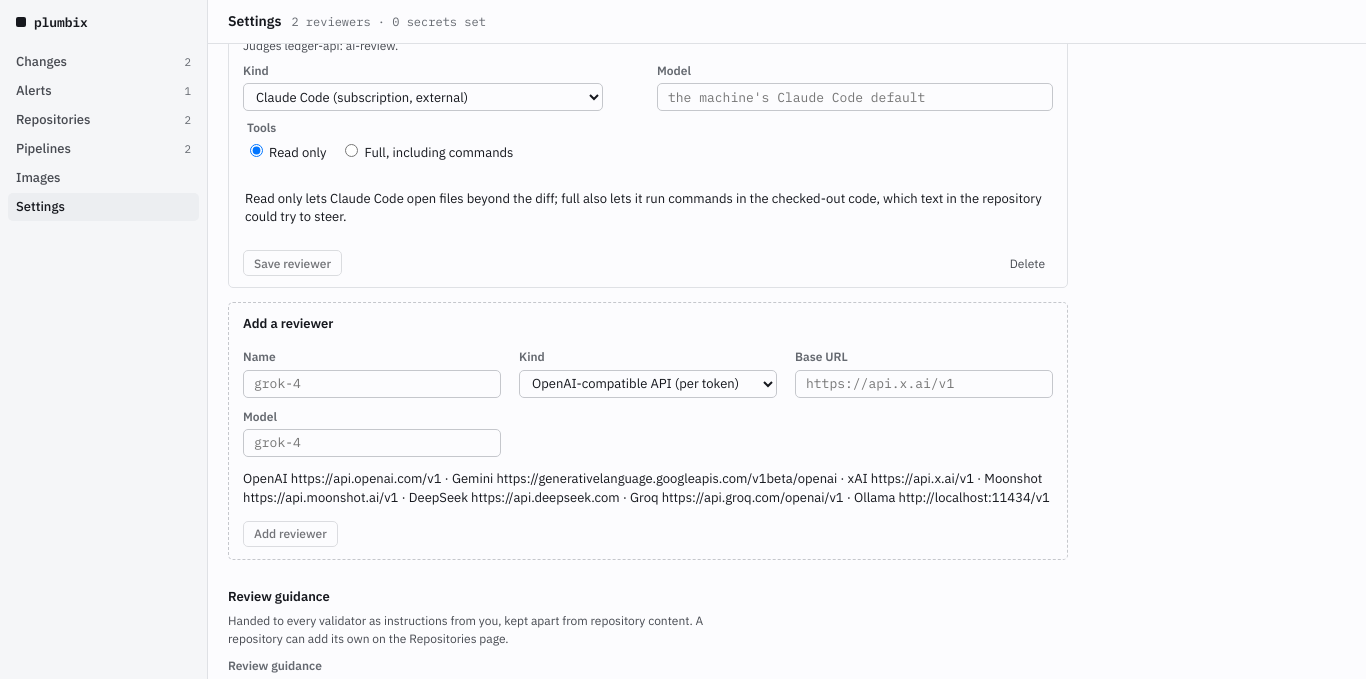
Test case: Settings page › refuses a profile the server rejects, naming the field
The image size is (1366, 679).
(page scrolled)
Check: the heading "Settings" is shown, box [228,11,282,32]
Step 1. Type "local" into the field labelled "Name" → (372, 384), box [243,370,501,398]
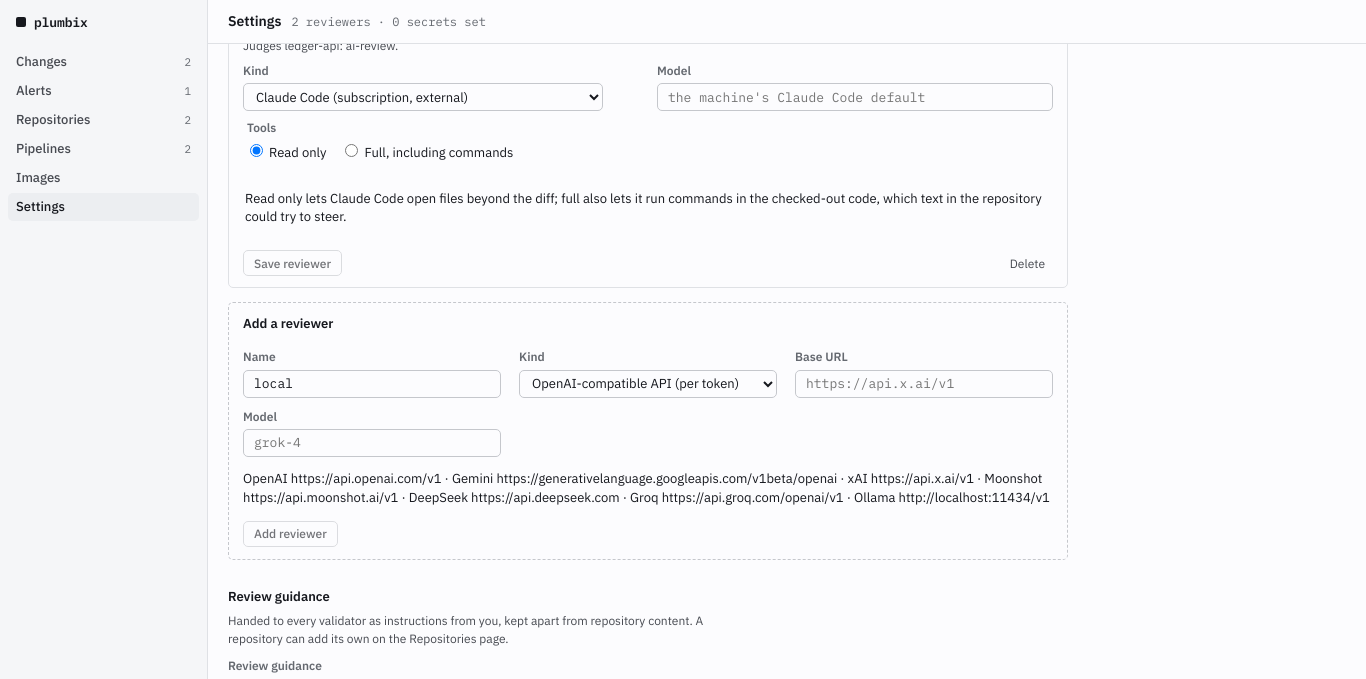
Step 2. Type "localhost:11434" into the field labelled "Base URL" → (924, 384), box [795,370,1053,398]
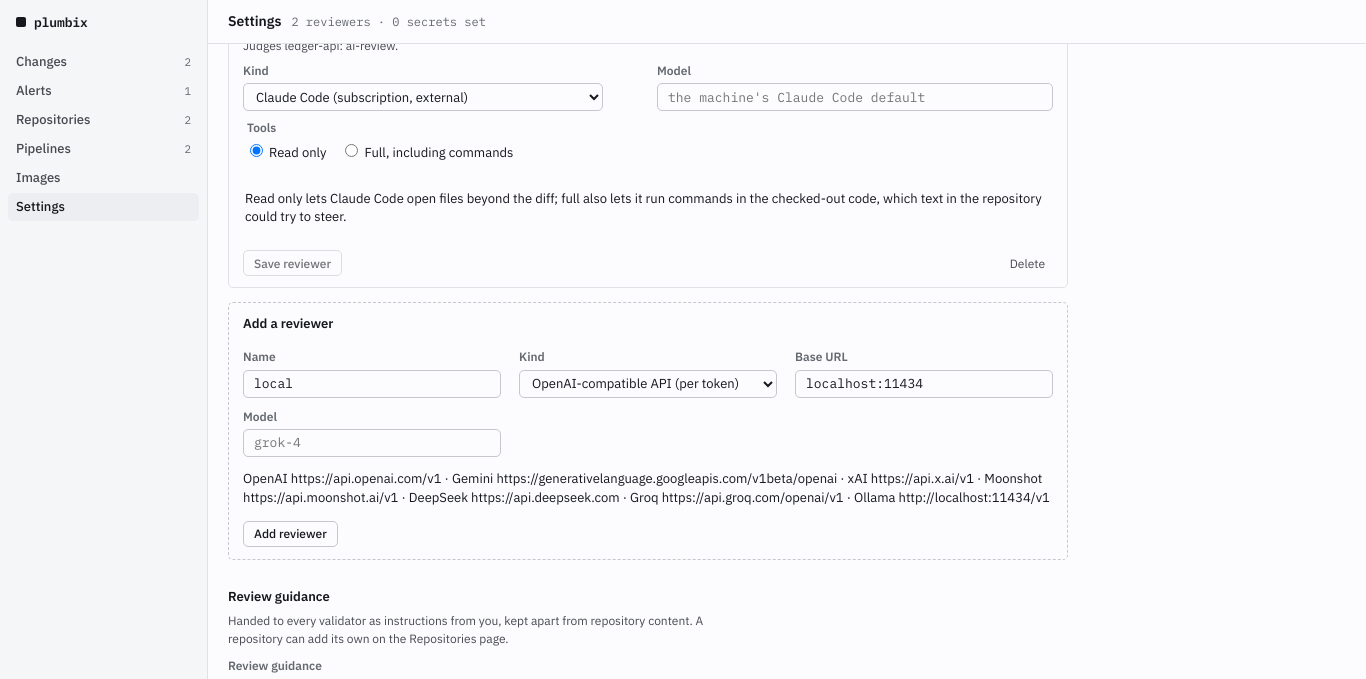
Step 3. Click the button "Add reviewer" → (290, 534), box [243,521,338,547]
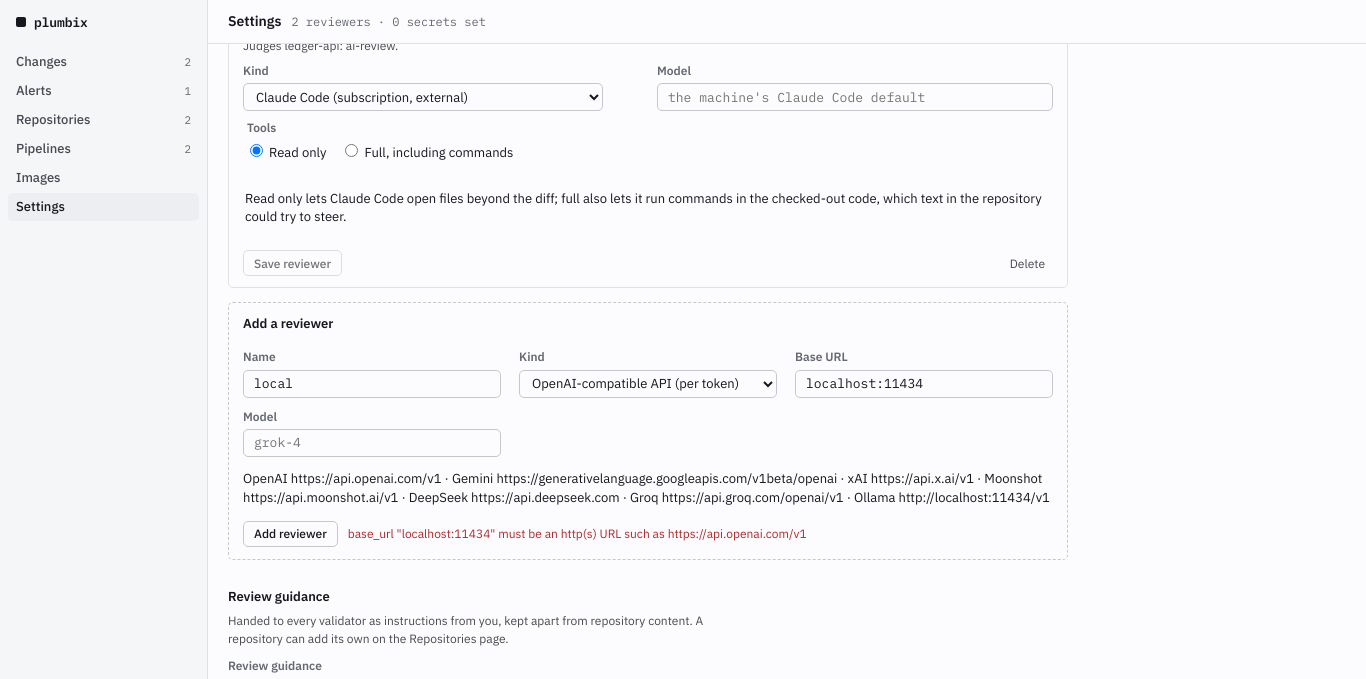
Check: the text "base_url \"localhost:11434\" must be an http(s) URL" is shown, box [348,526,807,541]
